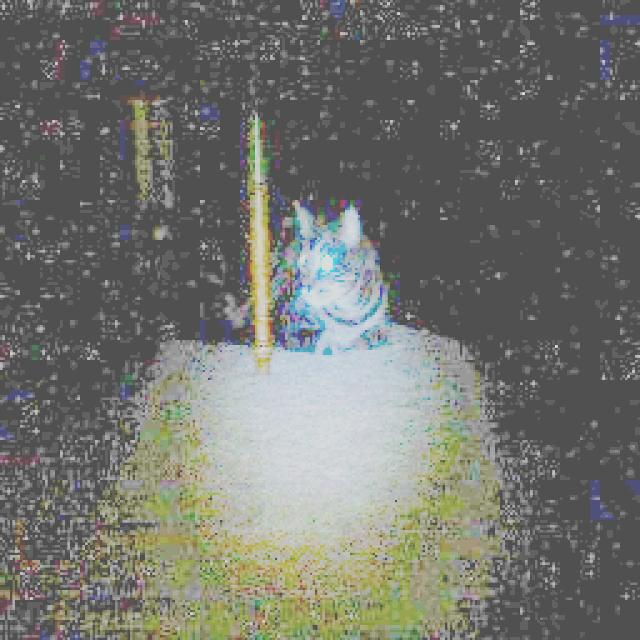cat: (288, 205, 414, 359)
